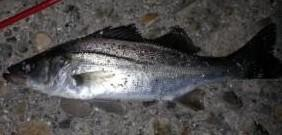fish: (3, 24, 281, 98)
